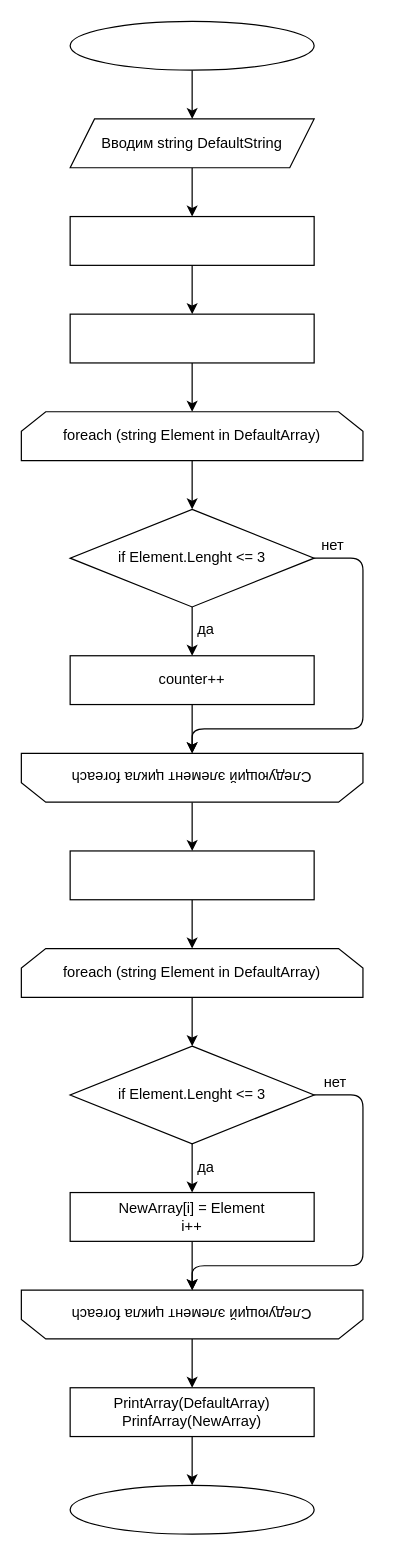
Some shapes in this 394 by 1556 pixel diagram are drawn without their labels. The shapes that lost their labels are listed below. From the top down, each one's centre as x and y in pixels, then its label:
the point at 191,45: Начало
the point at 191,240: DefaultArray = DefaultString.Split(",")
the point at 191,338: int counter = 0 int i = 0
the point at 191,875: NewArray = new string [counter]
the point at 191,1509: Конец
